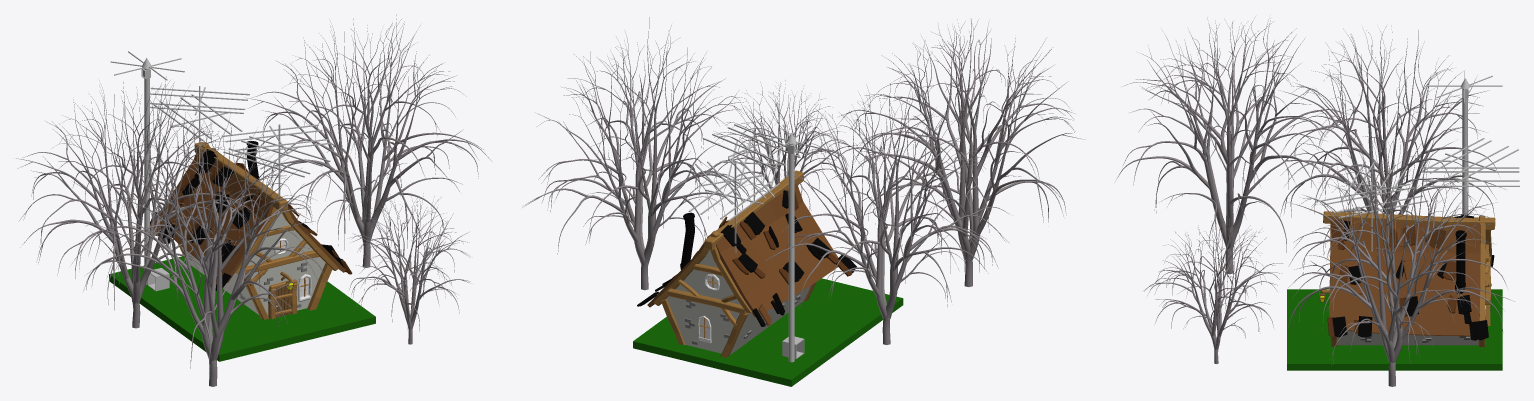
File: RadioShack.fbx
The picture shows the model from 3 angles, left to right: view 1: azimuth 30°, elevation 25°; view 2: azimuth 150°, elevation 25°; view 3: azimuth 270°, elevation 25°; orthographic projection. The views are drawn at different scales.
Parts seen in each view (by area): view 1: tree.002, Cube.001, Cylinder.001, Cube.160, Cube.251, Plane.019, Cube.280, Cube.256; view 2: tree.002, Cube.001, Cube.251, Cylinder.001, Plane.019, Cube.160, Cube.280, Cube.256, Cylinder.005; view 3: tree.002, Cube.251, Cube.001, Cylinder.001, Cube.160, Cube.280, Cube.256, Plane.019, Cylinder.005.
Boxes of the visible parts, x1=… form: tree.002: x1=14, y1=14, x2=492, y2=386; Cube.001: x1=109, y1=256, x2=375, y2=361; Cylinder.001: x1=110, y1=51, x2=331, y2=291; Cube.160: x1=177, y1=142, x2=338, y2=319; Cube.251: x1=150, y1=148, x2=346, y2=282; Plane.019: x1=181, y1=141, x2=325, y2=315; Cube.280: x1=150, y1=149, x2=346, y2=290; Cube.256: x1=178, y1=162, x2=352, y2=287; tree.002: x1=522, y1=17, x2=1085, y2=344; Cube.001: x1=633, y1=278, x2=903, y2=386; Cube.251: x1=647, y1=183, x2=838, y2=325; Cylinder.001: x1=688, y1=124, x2=825, y2=362; Plane.019: x1=666, y1=231, x2=811, y2=355; Cube.160: x1=653, y1=170, x2=816, y2=357; Cube.280: x1=637, y1=190, x2=856, y2=326; Cube.256: x1=672, y1=190, x2=852, y2=284; Cylinder.005: x1=680, y1=212, x2=694, y2=269; tree.002: x1=1115, y1=17, x2=1514, y2=386; Cube.251: x1=1329, y1=218, x2=1480, y2=336; Cube.001: x1=1287, y1=289, x2=1502, y2=370; Cylinder.001: x1=1320, y1=70, x2=1519, y2=251; Cube.160: x1=1323, y1=211, x2=1495, y2=347; Cube.280: x1=1332, y1=214, x2=1494, y2=340; Cube.256: x1=1327, y1=212, x2=1456, y2=336; Plane.019: x1=1337, y1=331, x2=1478, y2=345; Cylinder.005: x1=1455, y1=230, x2=1466, y2=293.
Size of the model in its own units: 1634 by 943 by 1324.
